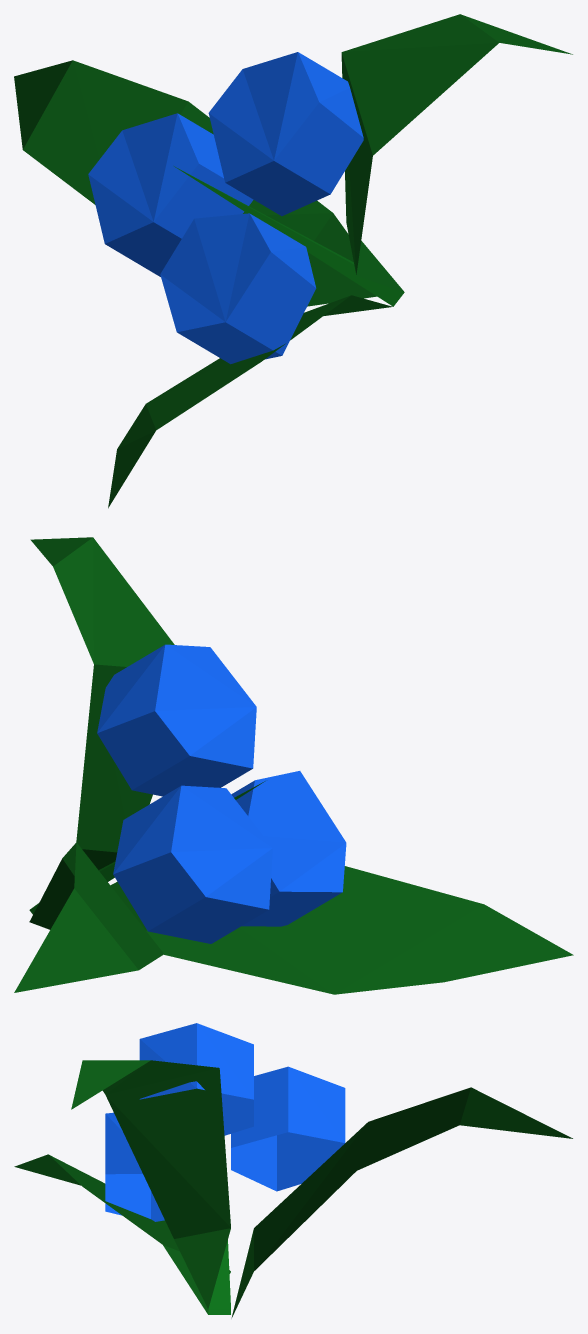
File: inv_dwellberries.obj
3 views of the same model, one above another, from view 1: azimuth 30°, elevation 25°; view 2: azimuth 150°, elevation 25°; view 3: azimuth 270°, elevation 25° (orthographic). The views are drawn at different scales.
Size of the model in its own units: 0.3438 by 0.2188 by 0.3828.
